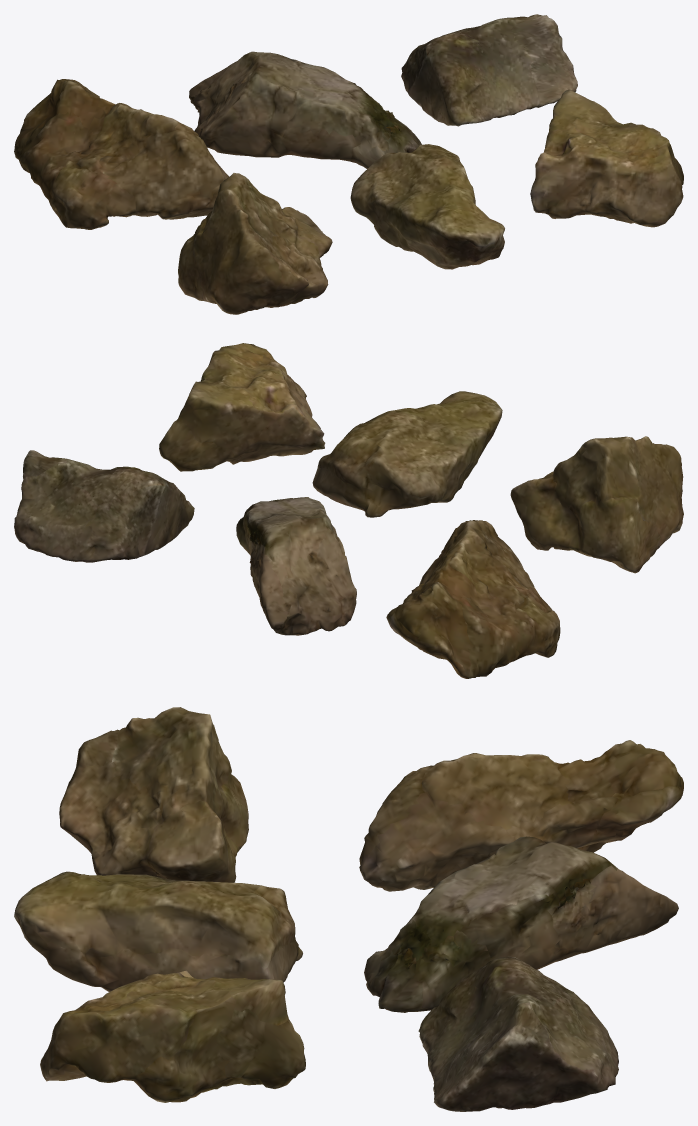
Rendered from rock_moss_set_01.glb.
3 renders of one model, top to bottom at view 1: azimuth 30°, elevation 25°; view 2: azimuth 150°, elevation 25°; view 3: azimuth 270°, elevation 25°, orthographic. The views are drawn at different scales.
Parts seen in each view (by area): view 1: rock_moss_set_01_rock01, rock_moss_set_01_rock02, rock_moss_set_01_rock06, rock_moss_set_01_rock04, rock_moss_set_01_rock03, rock_moss_set_01_rock05; view 2: rock_moss_set_01_rock04, rock_moss_set_01_rock01, rock_moss_set_01_rock05, rock_moss_set_01_rock03, rock_moss_set_01_rock06, rock_moss_set_01_rock02; view 3: rock_moss_set_01_rock01, rock_moss_set_01_rock02, rock_moss_set_01_rock05, rock_moss_set_01_rock04, rock_moss_set_01_rock06, rock_moss_set_01_rock03.
Boxes of the visible parts, x1,y1,x2,y2 form: rock_moss_set_01_rock01: (14, 79, 229, 229); rock_moss_set_01_rock02: (189, 51, 421, 168); rock_moss_set_01_rock06: (530, 89, 683, 227); rock_moss_set_01_rock04: (178, 173, 332, 314); rock_moss_set_01_rock03: (401, 14, 577, 126); rock_moss_set_01_rock05: (350, 144, 504, 269); rock_moss_set_01_rock04: (510, 436, 683, 573); rock_moss_set_01_rock01: (386, 520, 560, 678); rock_moss_set_01_rock05: (312, 391, 502, 517); rock_moss_set_01_rock03: (14, 450, 194, 562); rock_moss_set_01_rock06: (159, 343, 325, 471); rock_moss_set_01_rock02: (236, 497, 356, 635); rock_moss_set_01_rock01: (359, 740, 683, 891); rock_moss_set_01_rock02: (364, 836, 678, 1012); rock_moss_set_01_rock05: (14, 871, 302, 991); rock_moss_set_01_rock04: (59, 707, 248, 882); rock_moss_set_01_rock06: (40, 970, 305, 1102); rock_moss_set_01_rock03: (418, 956, 618, 1111).
Size of the model in its own units: 8 by 1.77 by 6.94.
Materials: 1 (1 with a texture image).
